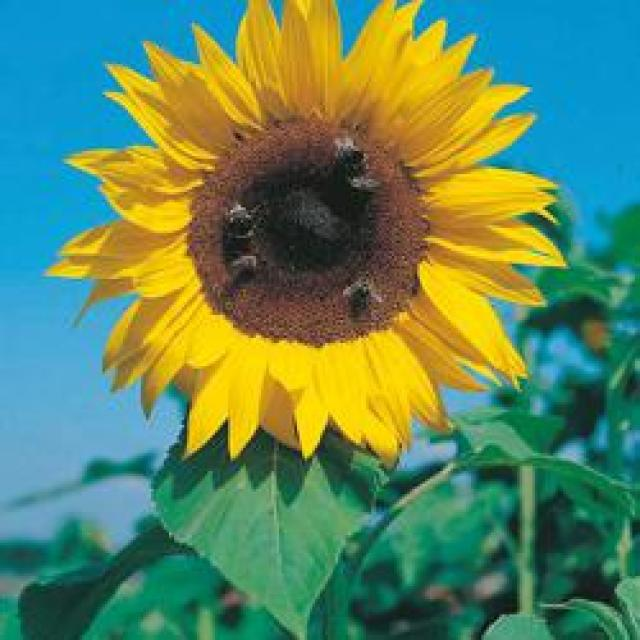sunflower: (34, 0, 568, 474)
